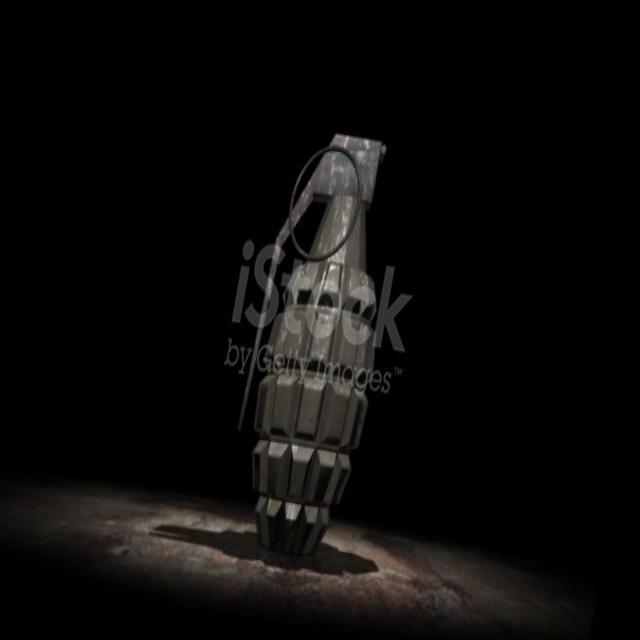grenade: (212, 103, 420, 572)
